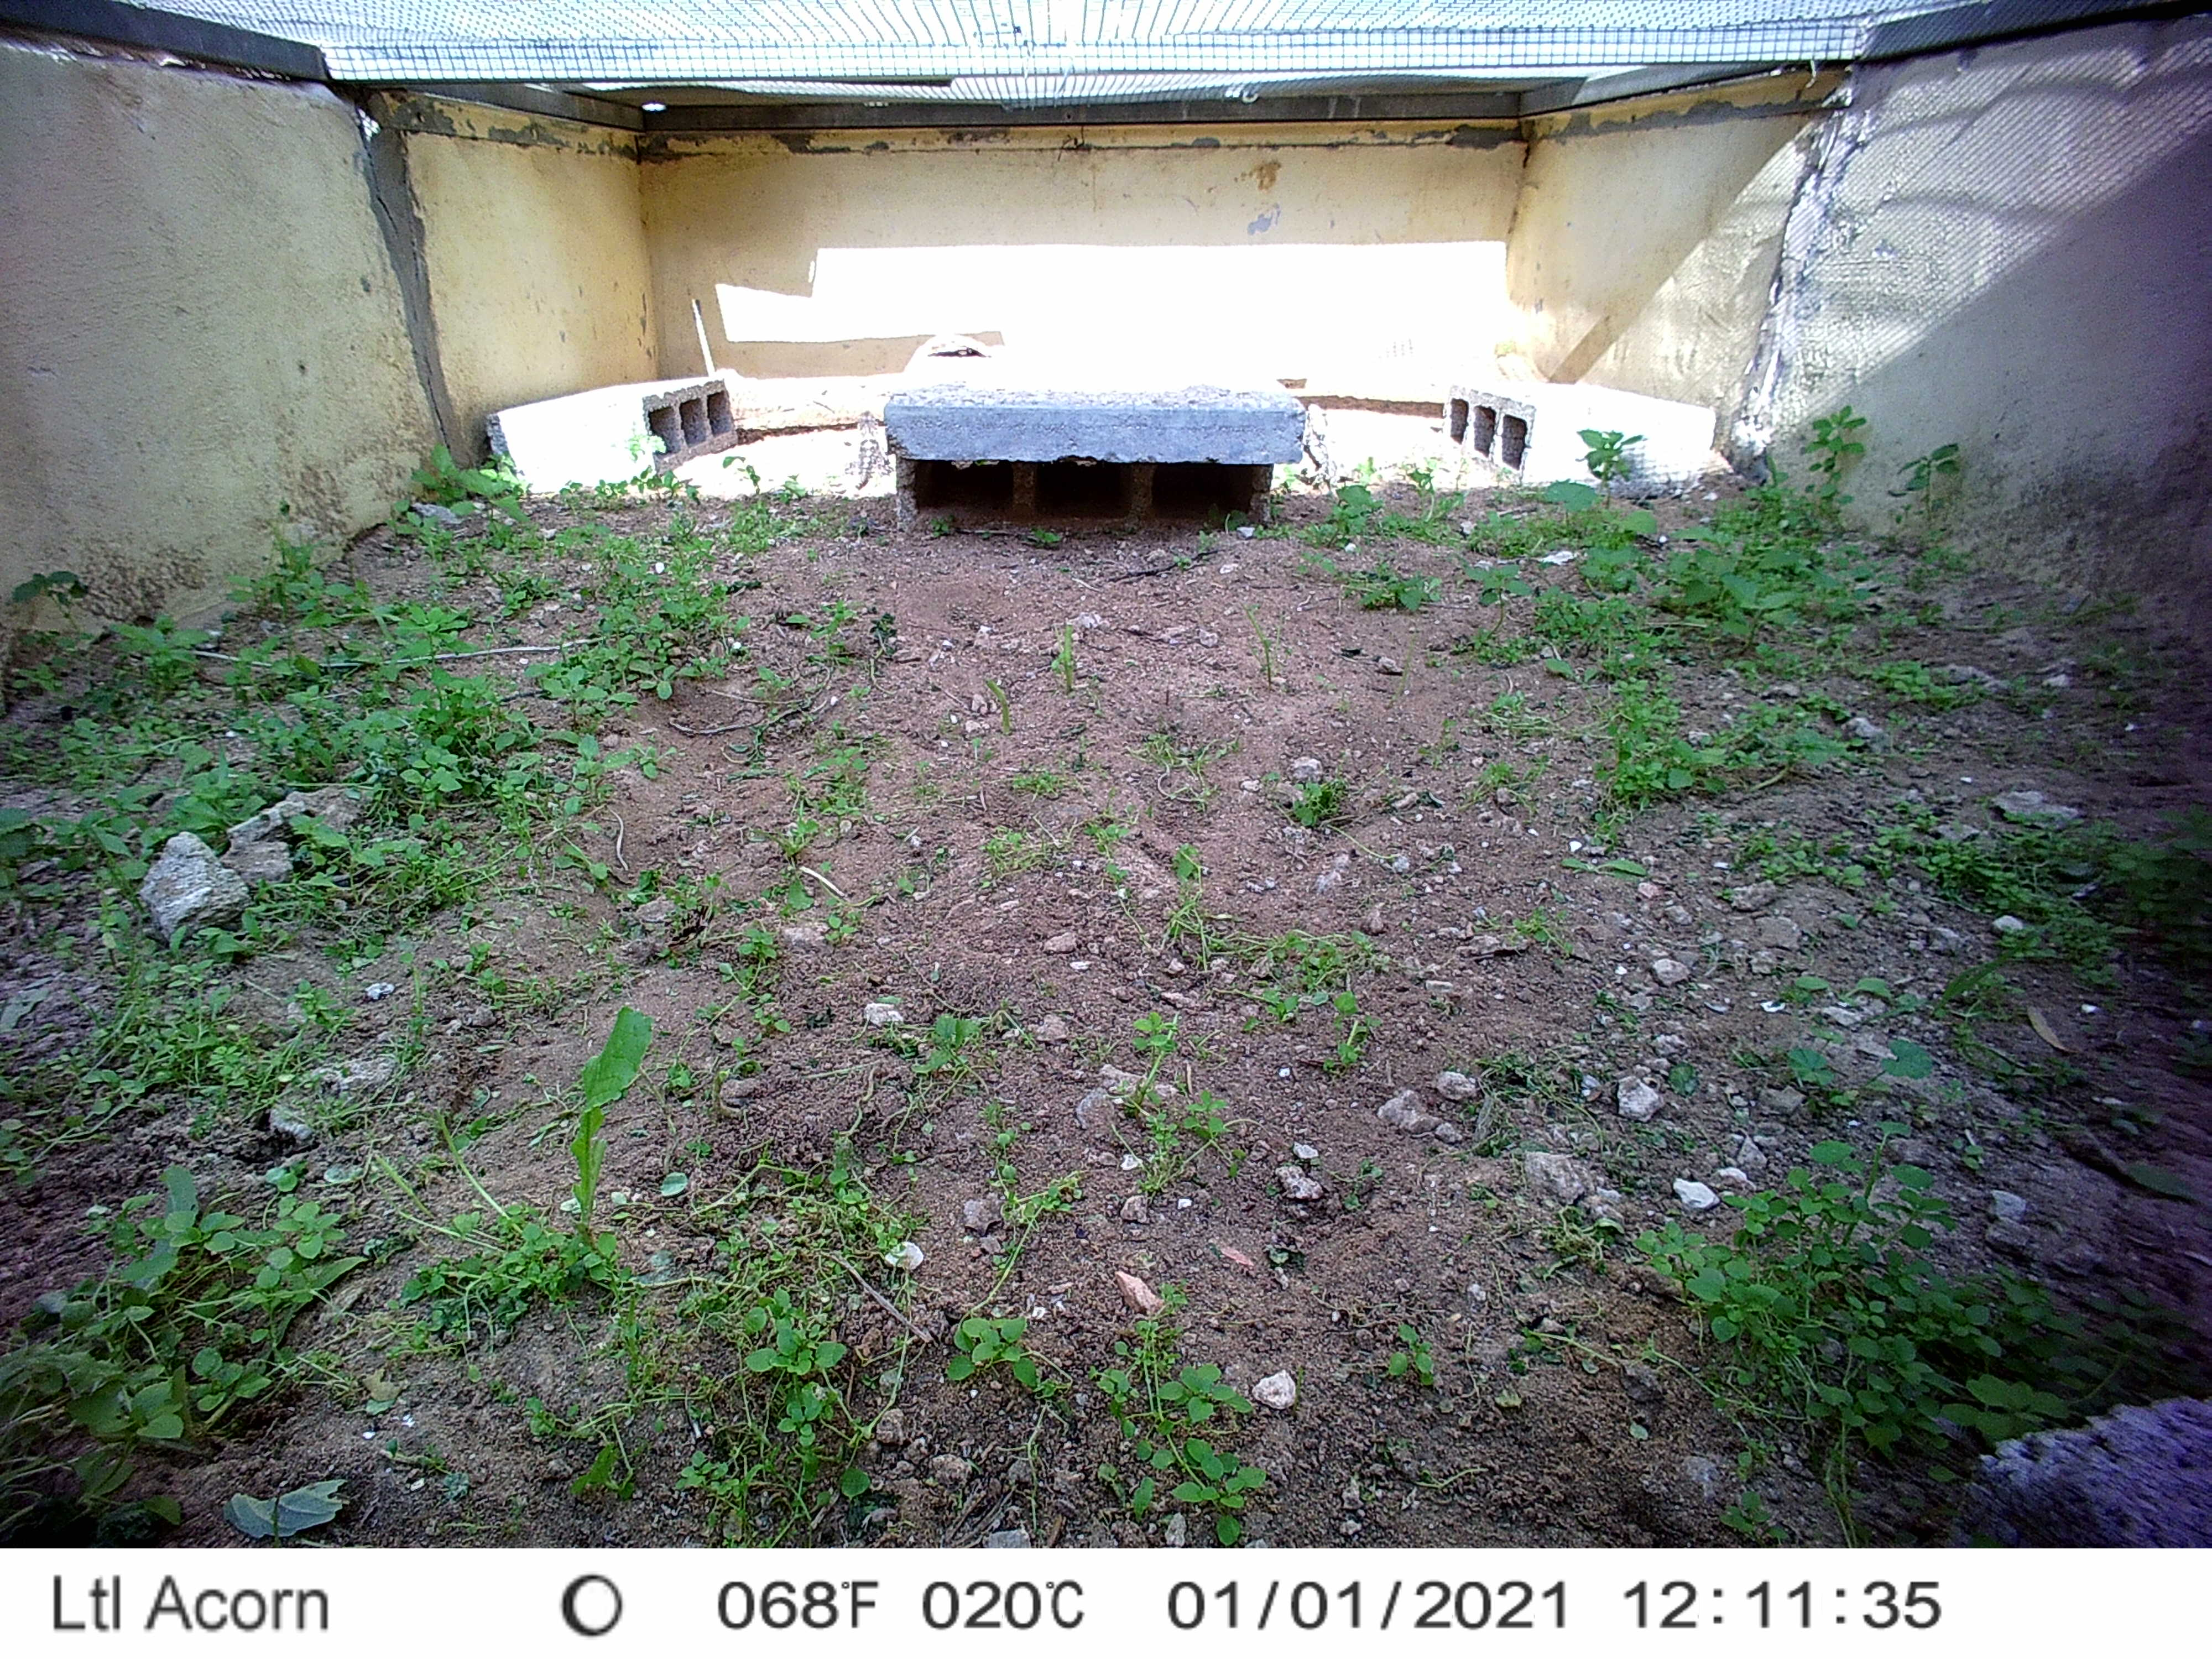lizard: (1294, 399, 1348, 497), (846, 406, 899, 493)
